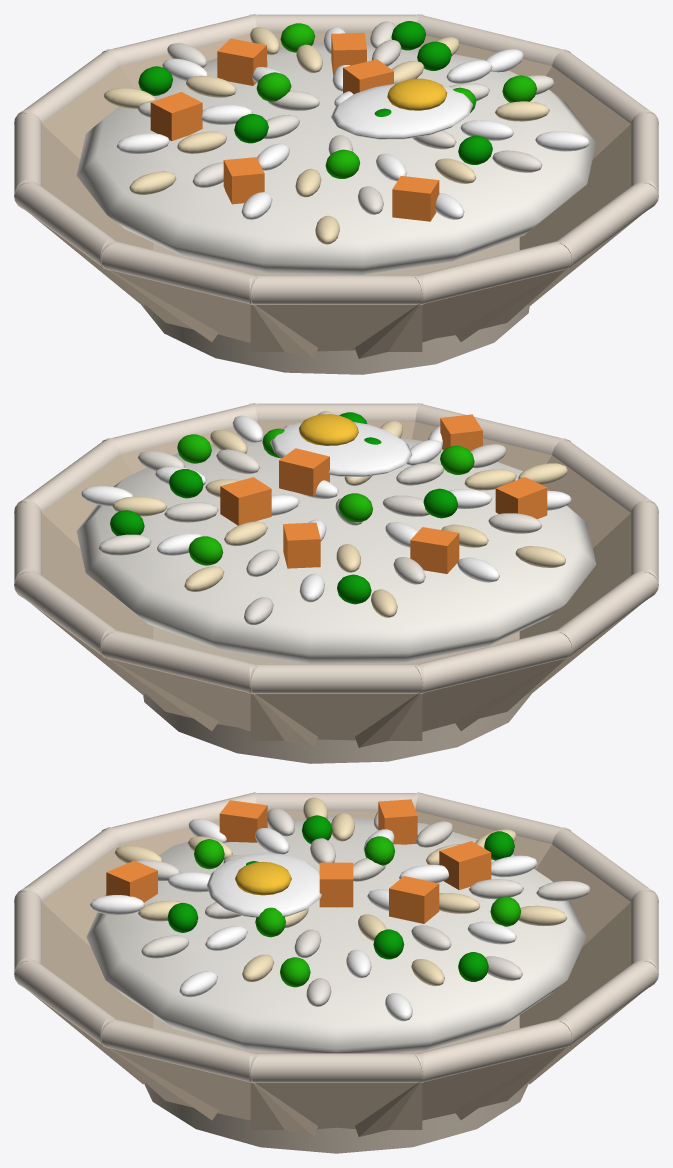
File: CMU3DFoodRiceEggCloud.glb
The picture shows the model from 3 angles, top to bottom: view 1: azimuth 30°, elevation 25°; view 2: azimuth 150°, elevation 25°; view 3: azimuth 270°, elevation 25°; orthographic projection.
Parts seen in each view (by area): view 1: fried rice mound, closed ceramic basin floor, flared hollow ceramic wall 09, rolled ceramic rim 09, flared hollow ceramic wall 08, flared hollow ceramic wall 10, flared hollow ceramic wall 12, fried egg white, rolled ceramic rim 08, rolled ceramic rim 10, flared hollow ceramic wall 06, rolled ceramic rim 07 (+60 smaller); view 2: fried rice mound, closed ceramic basin floor, flared hollow ceramic wall 05, rolled ceramic rim 05, flared hollow ceramic wall 06, flared hollow ceramic wall 04, flared hollow ceramic wall 02, rolled ceramic rim 04, rolled ceramic rim 06, flared hollow ceramic wall 08, fried egg white, rolled ceramic rim 03 (+59 smaller); view 3: fried rice mound, closed ceramic basin floor, flared hollow ceramic wall 01, rolled ceramic rim 01, flared hollow ceramic wall 04, flared hollow ceramic wall 10, flared hollow ceramic wall 02, flared hollow ceramic wall 12, rolled ceramic rim 02, rolled ceramic rim 12, fried egg white, flared hollow ceramic wall 05 (+60 smaller).
Part boxes in pixels (bbox=[...]): fried rice mound: bbox=[76, 43, 596, 274]; closed ceramic basin floor: bbox=[141, 237, 529, 374]; flared hollow ceramic wall 09: bbox=[250, 305, 422, 351]; rolled ceramic rim 09: bbox=[249, 275, 423, 304]; flared hollow ceramic wall 08: bbox=[107, 270, 317, 358]; flared hollow ceramic wall 10: bbox=[355, 270, 565, 358]; flared hollow ceramic wall 12: bbox=[519, 124, 638, 306]; fried egg white: bbox=[331, 83, 473, 139]; rolled ceramic rim 08: bbox=[100, 240, 257, 305]; rolled ceramic rim 10: bbox=[415, 240, 572, 305]; flared hollow ceramic wall 06: bbox=[34, 124, 153, 306]; rolled ceramic rim 07: bbox=[14, 179, 115, 270]; fried rice mound: bbox=[76, 434, 596, 663]; closed ceramic basin floor: bbox=[143, 626, 531, 763]; flared hollow ceramic wall 05: bbox=[250, 694, 422, 740]; rolled ceramic rim 05: bbox=[249, 664, 423, 693]; flared hollow ceramic wall 06: bbox=[355, 659, 565, 747]; flared hollow ceramic wall 04: bbox=[107, 659, 317, 747]; flared hollow ceramic wall 02: bbox=[34, 513, 153, 695]; rolled ceramic rim 04: bbox=[100, 629, 257, 694]; rolled ceramic rim 06: bbox=[415, 629, 572, 694]; flared hollow ceramic wall 08: bbox=[519, 513, 638, 695]; fried egg white: bbox=[270, 422, 412, 476]; rolled ceramic rim 03: bbox=[14, 568, 115, 659]; fried rice mound: bbox=[86, 815, 586, 1053]; closed ceramic basin floor: bbox=[144, 1015, 528, 1153]; flared hollow ceramic wall 01: bbox=[250, 1083, 422, 1129]; rolled ceramic rim 01: bbox=[249, 1053, 423, 1082]; flared hollow ceramic wall 04: bbox=[519, 902, 639, 1084]; flared hollow ceramic wall 10: bbox=[33, 902, 153, 1084]; flared hollow ceramic wall 02: bbox=[355, 1048, 565, 1136]; flared hollow ceramic wall 12: bbox=[107, 1048, 317, 1136]; rolled ceramic rim 02: bbox=[415, 1018, 572, 1083]; rolled ceramic rim 12: bbox=[100, 1018, 257, 1083]; fried egg white: bbox=[206, 852, 321, 917]; flared hollow ceramic wall 05: bbox=[535, 844, 630, 947].
Bounding box in the file's own units: 0.7325 × 0.298 × 0.7325.
